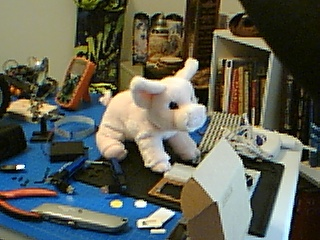piggy: (94, 57, 208, 173)
